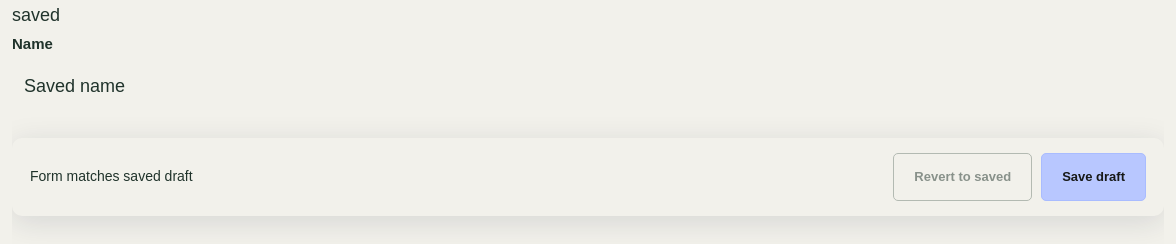
Test: saved draft editor › keeps edits dirty and blocks conflicting edits until the server confirms a save
Later steps or results of the test are not shown.
Replace the text in the field labelled "Name" with "Updated name" at (588, 87), box [12,63,1164,110]
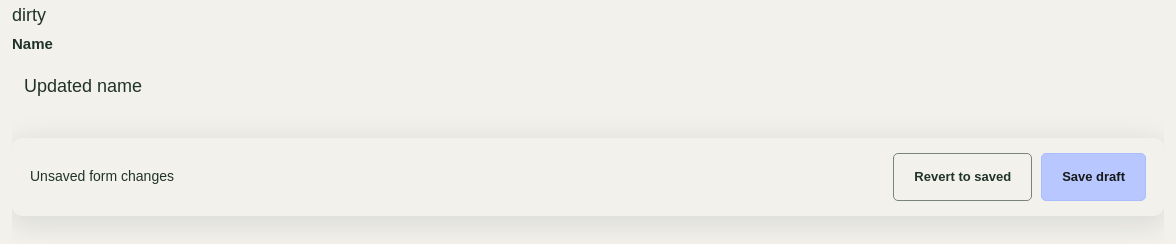
Click the button "Save draft".
click(1094, 177)  # box [1041,153,1146,201]
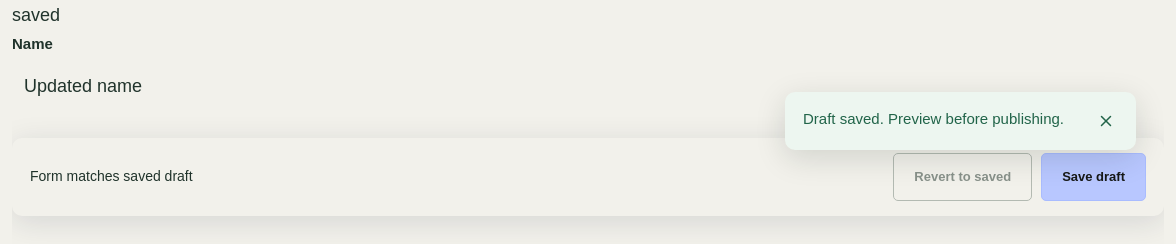
Expected: the field labelled "Name" is enabled, [12,63,1164,110]
Expected: the text named "Unsaved editor state" reads "saved", [12,5,60,25]
